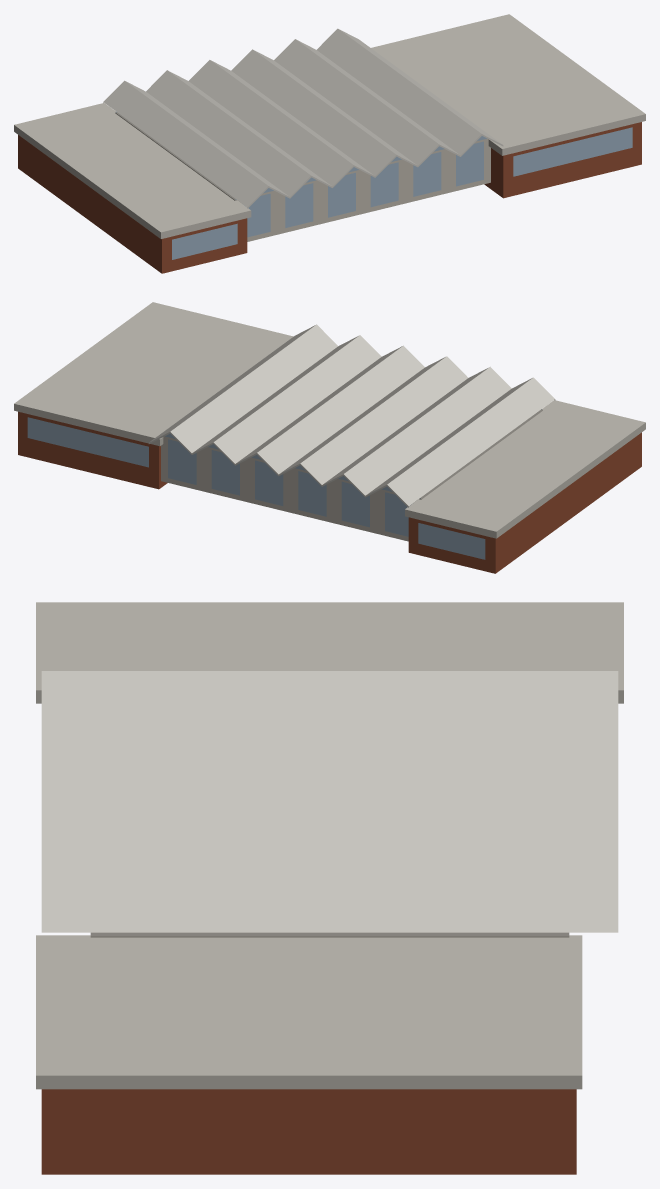
File: lru-student-union-1961.glb
3 views of the same model, one above another, from view 1: azimuth 30°, elevation 25°; view 2: azimuth 150°, elevation 25°; view 3: azimuth 270°, elevation 25° (orthographic). The views are drawn at different scales.
Visible parts, largest first — view 1: lru_student_union_1961; view 2: lru_student_union_1961; view 3: lru_student_union_1961.
Part boxes in pixels (x1,y1,x2,y2): lru_student_union_1961: (14,14,645,273); lru_student_union_1961: (14,302,645,573); lru_student_union_1961: (36,602,623,1174).
Size of the model in its own units: 59.59 by 8.17 by 31.28.
